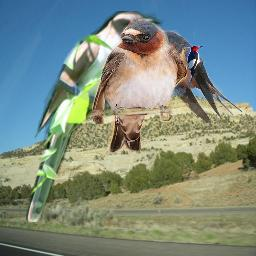Cuckoo: (26, 11, 164, 222)
Swallow: (92, 19, 187, 153), (150, 30, 242, 123)
Woodpecker: (184, 43, 205, 84)
